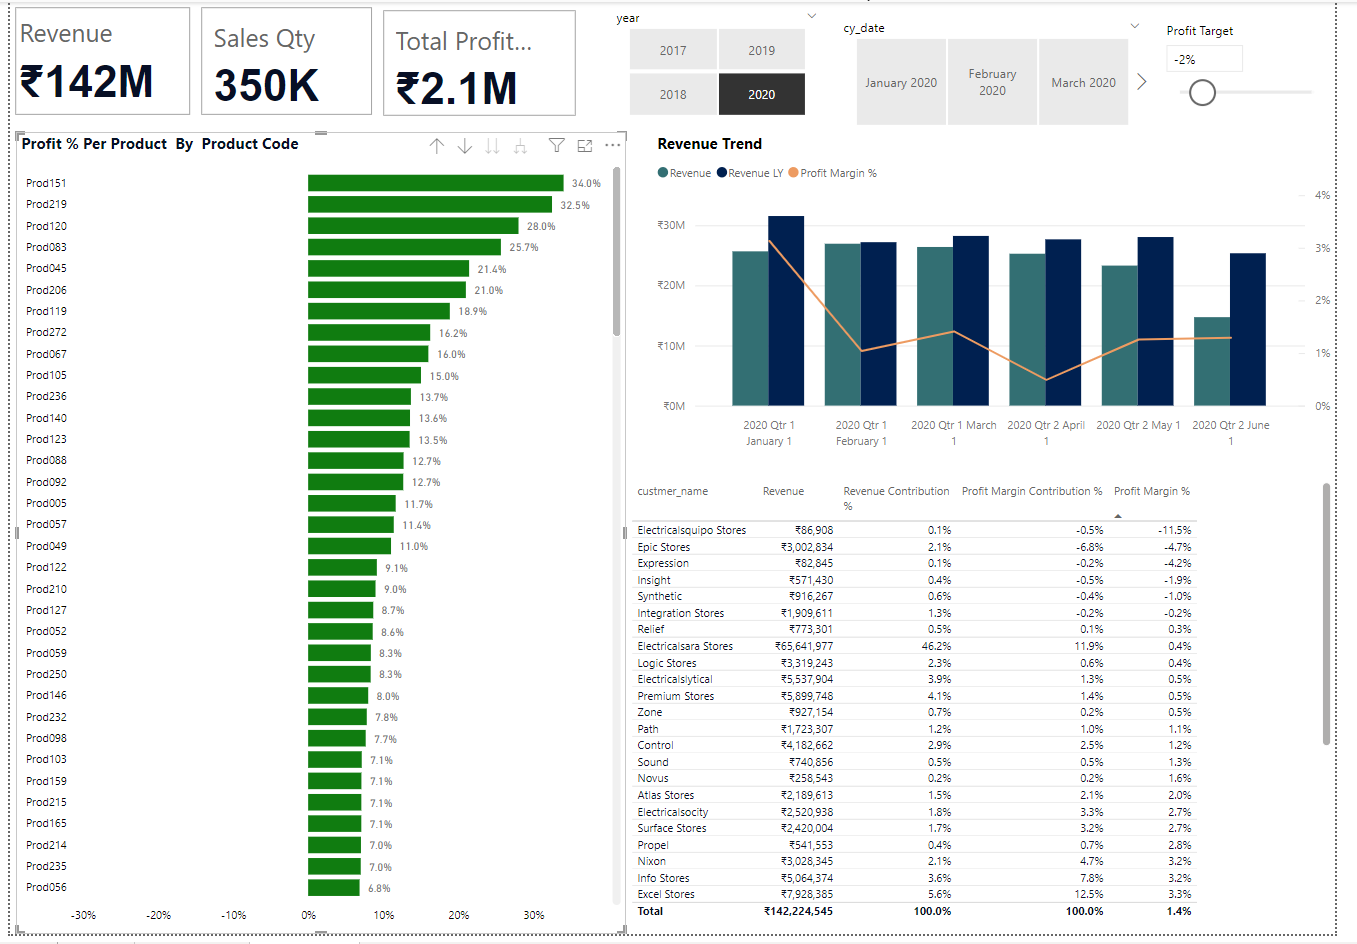

What the dashboard file says about the page in this screenshot:
{"tool":"powerbi","page":{"name":"Performance","canvas":[1280,900],"ordinal":2},"visuals":[{"type":"cardVisual","fields":{"Data":["Base_Measures.Revenue"]},"box":[0,0,179.6,114.9],"z":0},{"type":"cardVisual","fields":{"Data":["Base_Measures.Sales Qty"]},"box":[179.6,0,175.8,114.9],"z":1000},{"type":"slicer","fields":{"Values":["sales_date.year"]},"box":[572.6,1,219.2,114.9],"z":2000},{"type":"slicer","fields":{"Values":["sales_date.cy_date"]},"box":[791.8,10.6,311.9,114.9],"z":3000},{"type":"tableEx","title":"Top 5 Customers","fields":{"Values":["sales_customers.custmer_name","Base_Measures.Revenue","Base_Measures.Revenue Contribution %","Base_Measures.Profit Margin Contribution %","Base_Measures.Profit Margin %"]},"box":[594.8,458.7,685.6,430.7],"z":4000},{"type":"lineClusteredColumnComboChart","title":"Revenue Trend","fields":{"Category":["sales_date.cy_date.Variation.Date Hierarchy.Year","sales_date.cy_date.Variation.Date Hierarchy.Quarter","sales_date.cy_date.Variation.Date Hierarchy.Month","sales_date.cy_date.Variation.Date Hierarchy.Day"],"Y":["Base_Measures.Revenue","Base_Measures.Revenue LY"],"Y2":["Base_Measures.Profit Margin %"]},"box":[620,125.5,660.5,312.9],"z":5000},{"type":"cardVisual","fields":{"Data":["Base_Measures.Total Profit MArgin"]},"box":[355.4,2.9,196,112],"z":6000},{"type":"clusteredBarChart","title":"Profit % Per Product  By  Product Code","fields":{"Category":["sales_markets.zone","sales_customers.custmer_name","sales_products.product_code"],"Y":["Base_Measures.Profit Margin %"]},"box":[5.8,125.5,589.1,774.5],"z":7000},{"type":"slicer","fields":{"Values":["Profit Target 2.Profit Target"]},"box":[1103.8,13.5,176.7,102.4],"z":8000}]}

Visuals, with their boxes in screenshot pixels (x1, y1, x2, y2), scaled from the page's 1280x900 canvas onto the 1357x944 screenshot:
cardVisual - Base_Measures.Revenue: (0, 0, 190, 121)
cardVisual - Base_Measures.Sales Qty: (190, 0, 377, 121)
slicer - sales_date.year: (607, 1, 839, 122)
slicer - sales_date.cy_date: (839, 11, 1170, 132)
"Top 5 Customers" tableEx: (631, 481, 1356, 933)
"Revenue Trend" lineClusteredColumnComboChart: (657, 132, 1356, 460)
cardVisual - Base_Measures.Total Profit MArgin: (377, 3, 585, 121)
"Profit % Per Product  By  Product Code" clusteredBarChart: (6, 132, 631, 943)
slicer - Profit Target 2.Profit Target: (1170, 14, 1356, 122)
